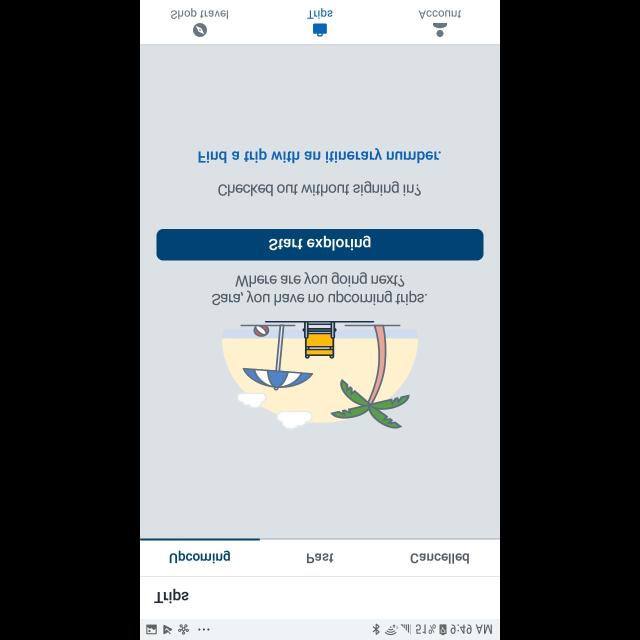icon: (433, 22, 447, 38), (193, 23, 207, 37), (313, 24, 327, 36)
image: (222, 320, 418, 430)
text: (212, 272, 428, 306), (199, 148, 441, 164), (218, 180, 422, 196), (170, 550, 230, 564), (172, 8, 228, 20), (410, 554, 470, 564), (155, 588, 189, 604), (418, 10, 462, 18), (306, 553, 334, 565), (307, 8, 333, 20)
textbutton: (156, 228, 484, 260)
uppertaskbar: (140, 618, 500, 640)
